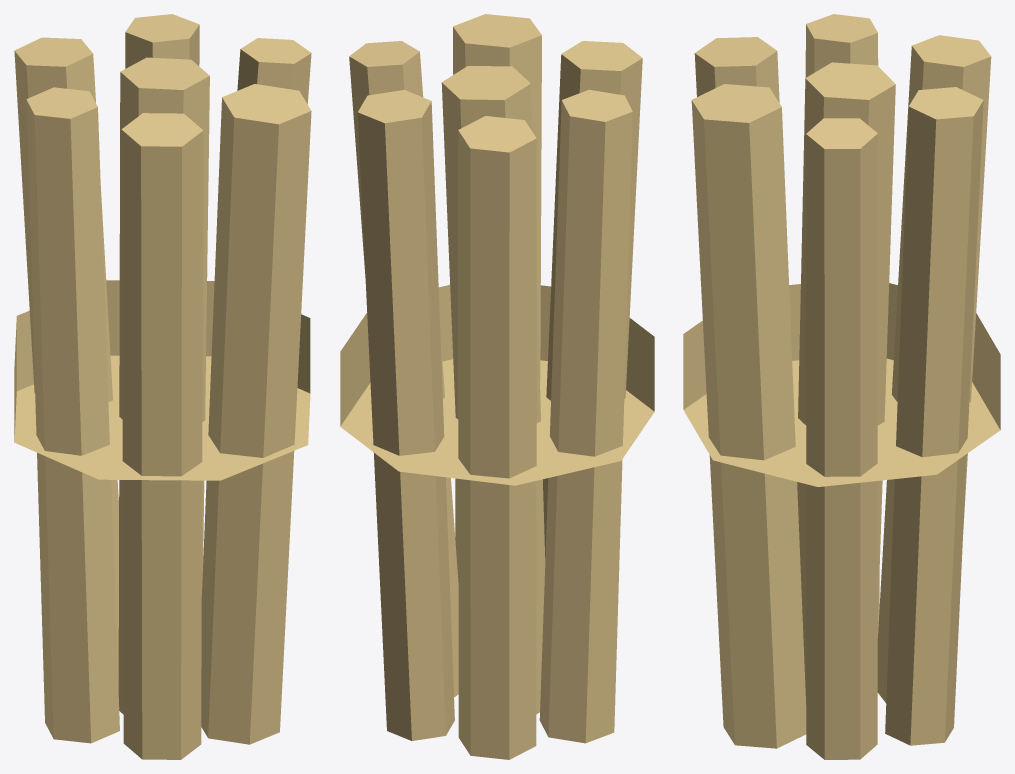
File: KindlingBundle.glb
3 renders of one model, left to right at view 1: azimuth 30°, elevation 25°; view 2: azimuth 150°, elevation 25°; view 3: azimuth 270°, elevation 25°, orthographic.
Parts seen in each view (by area): view 1: KindlingBundle; view 2: KindlingBundle; view 3: KindlingBundle.
Part boxes in pixels (x1=…): KindlingBundle: x1=14, y1=14, x2=311, y2=759; KindlingBundle: x1=340, y1=14, x2=654, y2=759; KindlingBundle: x1=683, y1=14, x2=1000, y2=759.
Size of the model in its own units: 0.1105 by 0.2417 by 0.1088.
